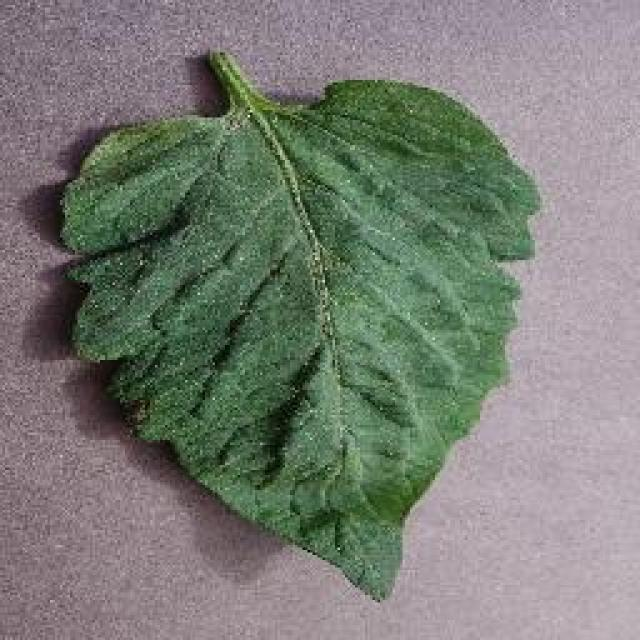Tomato___Target_Spot: (62, 55, 538, 600)
